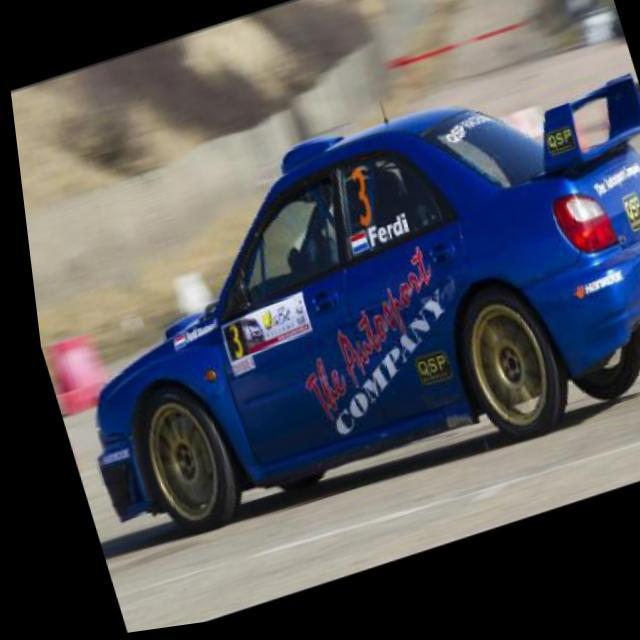license_plate: (633, 275, 640, 317)
